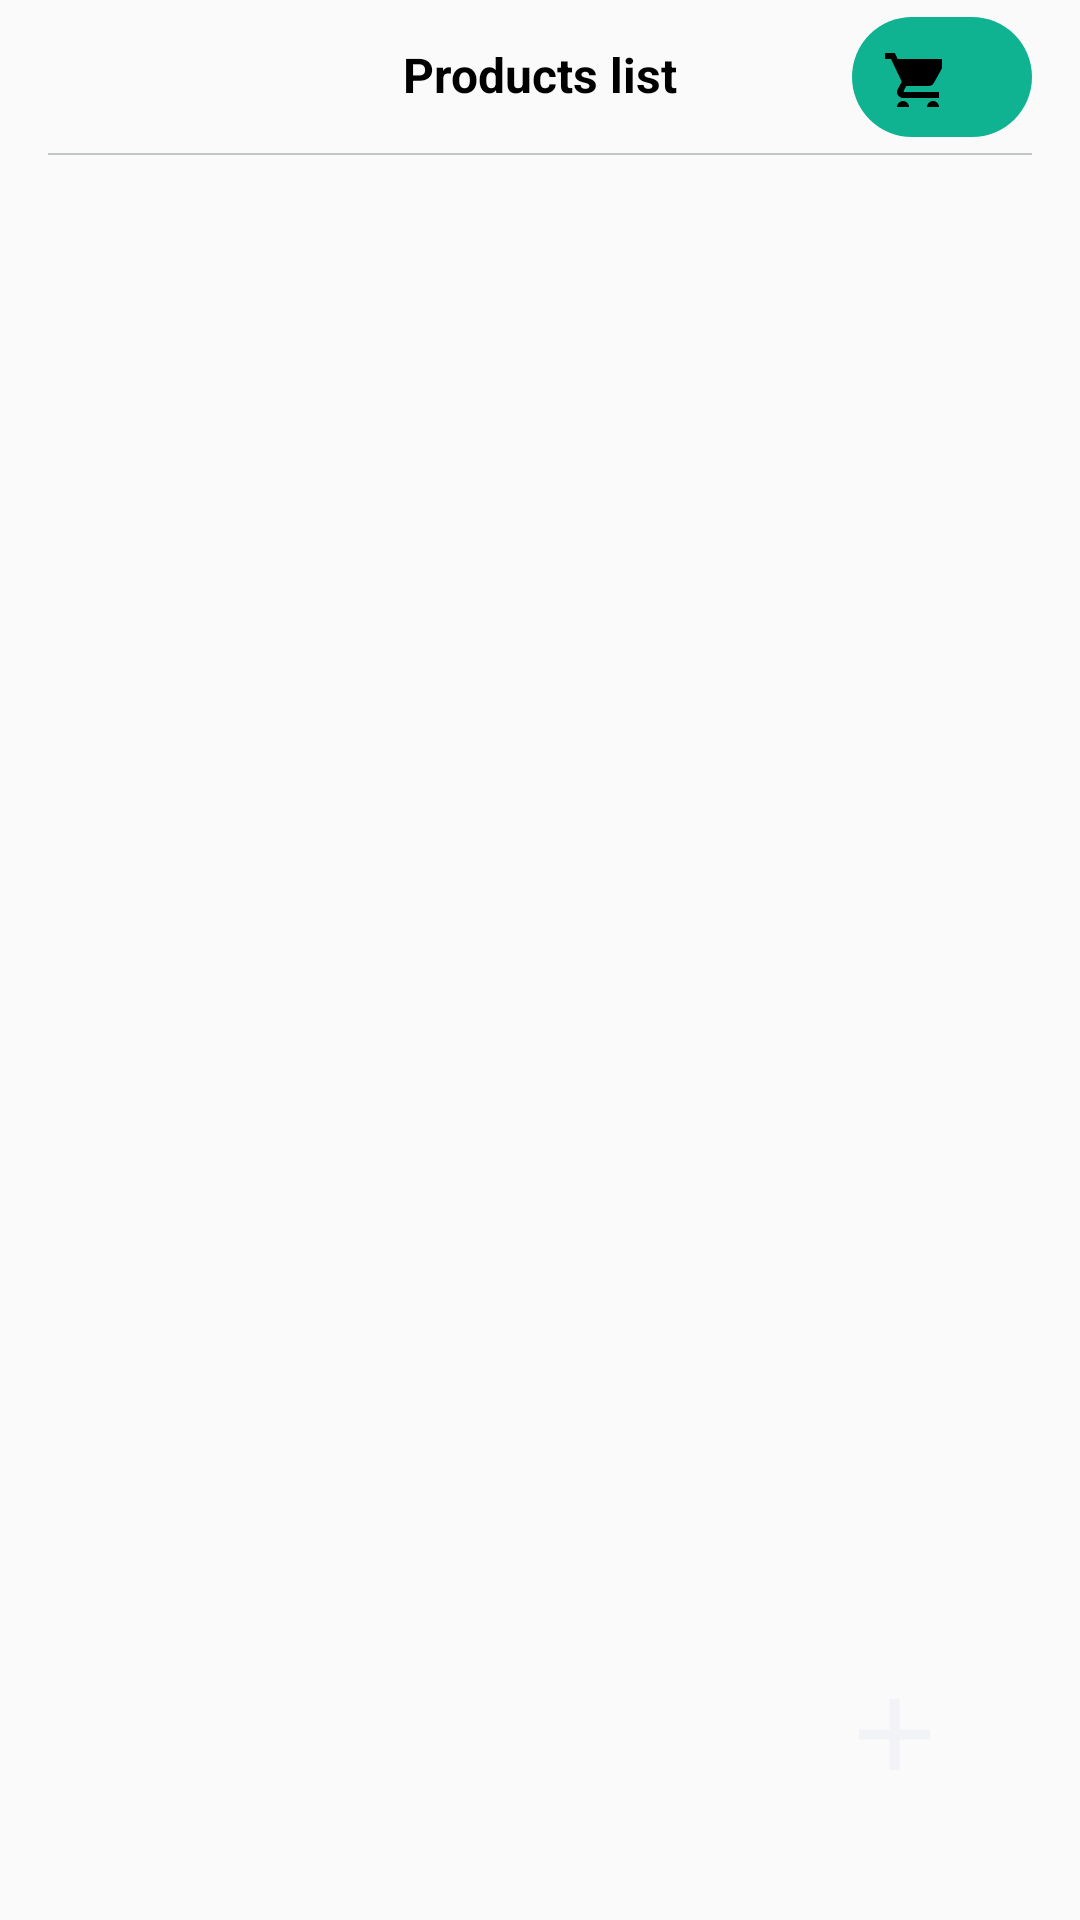

Locate icon controls on the screen. Image size 1080x1920, boxes as box=[x1, y1, x2, y2].
shopping cart: box=[852, 17, 1032, 137]
